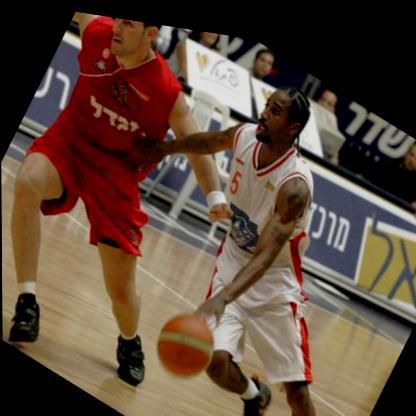basketball: (144, 294, 224, 389)
